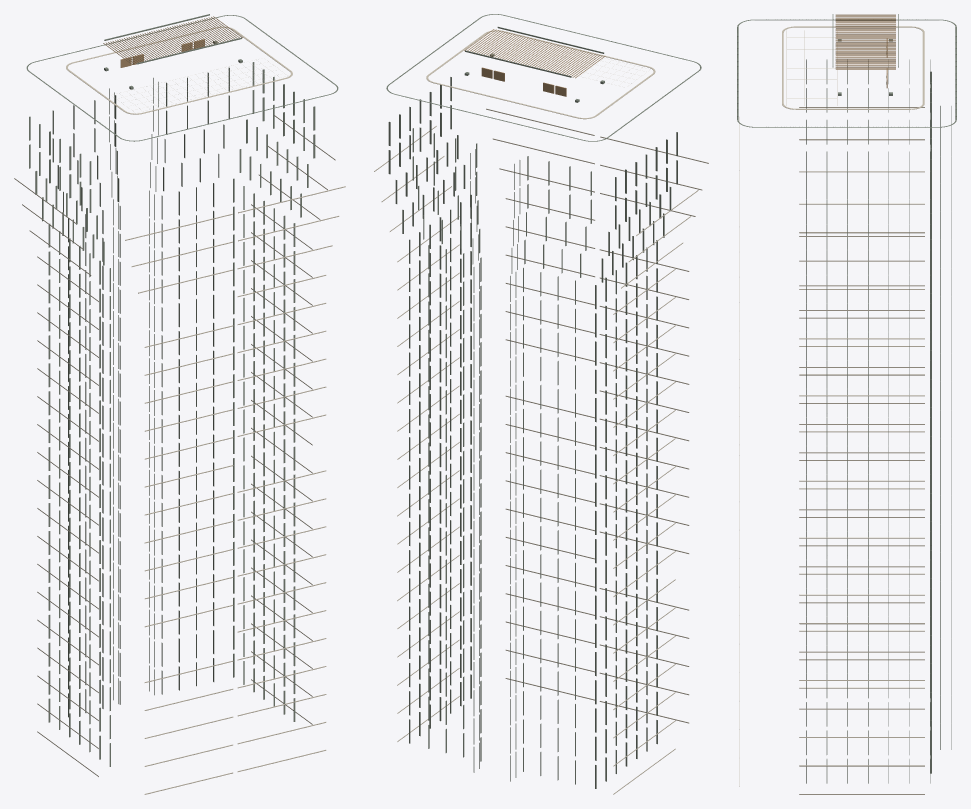
File: m-rooftop-facade-v47.glb
3 views of the same model, side by side, from view 1: azimuth 30°, elevation 25°; view 2: azimuth 150°, elevation 25°; view 3: azimuth 270°, elevation 25° (orthographic).
Parts seen in each view (by area): view 1: M47_Crown_M47 Oak, M47_Crown_M47 Bronze, M47_Floor_20_M47 Bronze, M47_Floor_21_M47 Bronze, M47_Floor_22_M47 Bronze, M47_Floor_19_M47 Bronze, M47_Floor_10_M47 Bronze, M47_Floor_02_M47 Bronze, M47_Floor_14_M47 Bronze, M47_Floor_05_M47 Bronze, M47_Floor_11_M47 Bronze, M47_Floor_12_M47 Bronze (+14 smaller); view 2: M47_Crown_M47 Oak, M47_Crown_M47 Bronze, M47_Floor_21_M47 Bronze, M47_Floor_22_M47 Bronze, M47_Floor_20_M47 Bronze, M47_Floor_19_M47 Bronze, M47_Floor_16_M47 Bronze, M47_Floor_02_M47 Bronze, M47_Floor_07_M47 Bronze, M47_Floor_11_M47 Bronze, M47_Floor_09_M47 Bronze, M47_Floor_03_M47 Bronze (+13 smaller); view 3: M47_Crown_M47 Oak, M47_Crown_M47 Stone, M47_Crown_M47 Bronze, M47_Floor_22_M47 Bronze, M47_Floor_10_M47 Stone, M47_Floor_04_M47 Stone, M47_Floor_06_M47 Stone, M47_Floor_08_M47 Stone, M47_Floor_02_M47 Stone, M47_Floor_17_M47 Stone, M47_Floor_20_M47 Stone, M47_Floor_19_M47 Stone (+13 smaller).
Boxes of the visible parts, bbox=[...] form: M47_Crown_M47 Oak: bbox=[103, 16, 242, 67]; M47_Crown_M47 Bronze: bbox=[26, 14, 338, 141]; M47_Floor_20_M47 Bronze: bbox=[35, 119, 308, 239]; M47_Floor_21_M47 Bronze: bbox=[29, 90, 315, 212]; M47_Floor_22_M47 Bronze: bbox=[29, 62, 315, 184]; M47_Floor_19_M47 Bronze: bbox=[42, 149, 301, 265]; M47_Floor_10_M47 Bronze: bbox=[48, 402, 295, 515]; M47_Floor_02_M47 Bronze: bbox=[48, 625, 295, 738]; M47_Floor_14_M47 Bronze: bbox=[48, 290, 295, 403]; M47_Floor_05_M47 Bronze: bbox=[48, 541, 295, 655]; M47_Floor_11_M47 Bronze: bbox=[48, 374, 295, 487]; M47_Floor_12_M47 Bronze: bbox=[48, 346, 295, 459]; M47_Crown_M47 Oak: bbox=[464, 29, 605, 96]; M47_Crown_M47 Bronze: bbox=[386, 14, 701, 141]; M47_Floor_21_M47 Bronze: bbox=[388, 105, 677, 229]; M47_Floor_22_M47 Bronze: bbox=[388, 77, 677, 201]; M47_Floor_20_M47 Bronze: bbox=[395, 135, 671, 255]; M47_Floor_19_M47 Bronze: bbox=[402, 165, 664, 282]; M47_Floor_16_M47 Bronze: bbox=[409, 251, 657, 365]; M47_Floor_02_M47 Bronze: bbox=[409, 646, 657, 760]; M47_Floor_07_M47 Bronze: bbox=[409, 505, 657, 619]; M47_Floor_11_M47 Bronze: bbox=[409, 392, 657, 506]; M47_Floor_09_M47 Bronze: bbox=[409, 448, 657, 563]; M47_Floor_03_M47 Bronze: bbox=[409, 618, 657, 732]; M47_Crown_M47 Oak: bbox=[835, 14, 895, 88]; M47_Crown_M47 Stone: bbox=[782, 26, 924, 109]; M47_Crown_M47 Bronze: bbox=[737, 14, 956, 127]; M47_Floor_22_M47 Bronze: bbox=[806, 59, 951, 195]; M47_Floor_10_M47 Stone: bbox=[739, 431, 924, 538]; M47_Floor_04_M47 Stone: bbox=[739, 602, 924, 709]; M47_Floor_06_M47 Stone: bbox=[739, 545, 924, 652]; M47_Floor_08_M47 Stone: bbox=[739, 488, 924, 595]; M47_Floor_02_M47 Stone: bbox=[739, 659, 924, 766]; M47_Floor_17_M47 Stone: bbox=[739, 232, 924, 339]; M47_Floor_20_M47 Stone: bbox=[739, 139, 924, 261]; M47_Floor_19_M47 Stone: bbox=[739, 171, 924, 286].
Bounding box in the file's own units: 34.07 × 86.26 × 24.5.
